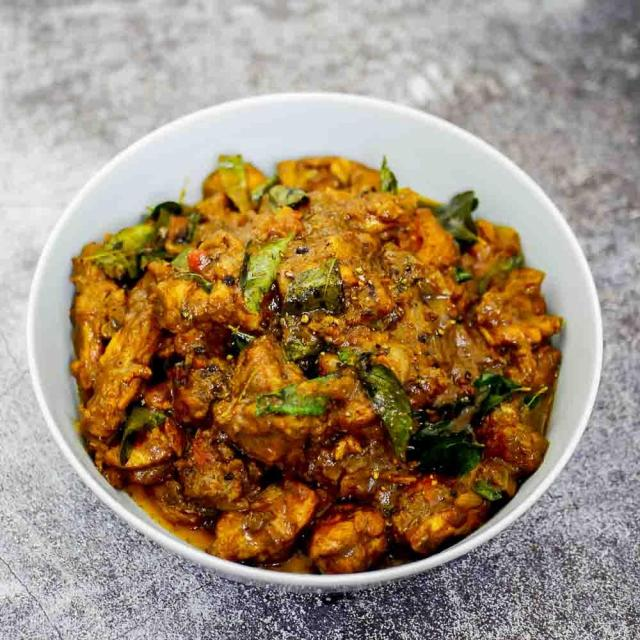chicken: (81, 146, 562, 563)
